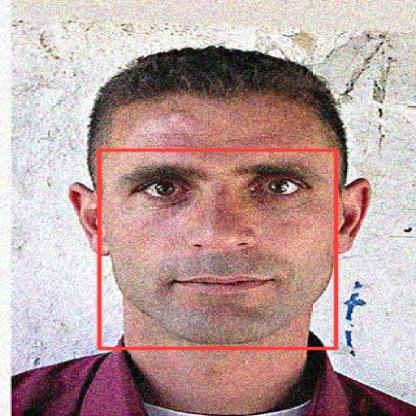without_mask: (99, 150, 335, 348)
